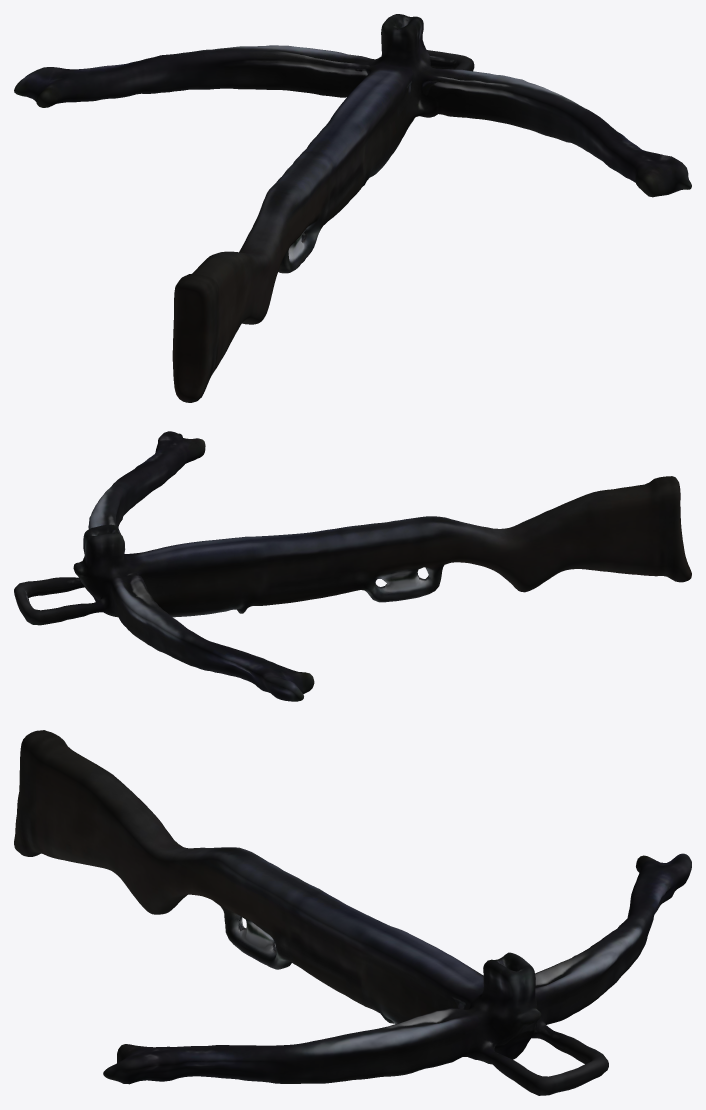
Rendered from ballesta.obj.
The picture shows the model from 3 angles, top to bottom: view 1: azimuth 30°, elevation 25°; view 2: azimuth 150°, elevation 25°; view 3: azimuth 270°, elevation 25°; orthographic projection. The views are drawn at different scales.
Visible parts, largest first — view 1: Ballesta; view 2: Ballesta; view 3: Ballesta.
Boxes of the visible parts, x1,y1,x2,y2 form: Ballesta: (14,14,691,402); Ballesta: (14,431,691,701); Ballesta: (14,730,691,1095).
Bounding box in the file's own units: 3.97 × 0.8018 × 3.89.
1 material, 1 textured.
